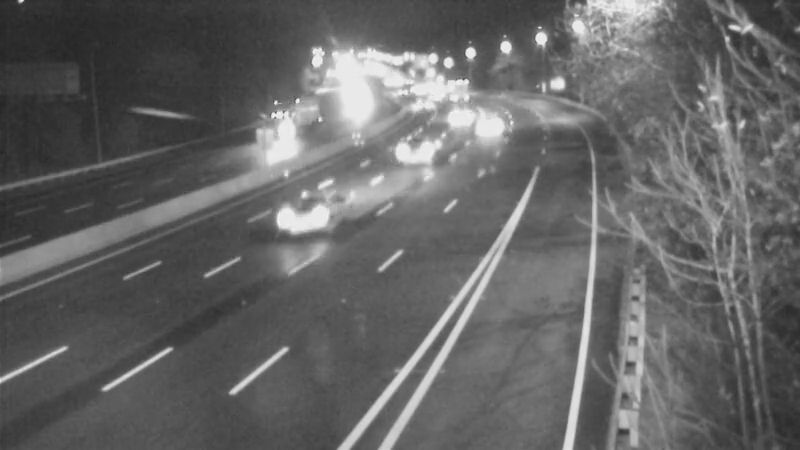vehicle: (378, 112, 458, 192), (262, 178, 342, 258), (429, 64, 479, 114), (433, 93, 483, 143), (463, 100, 513, 150), (244, 109, 294, 159)
